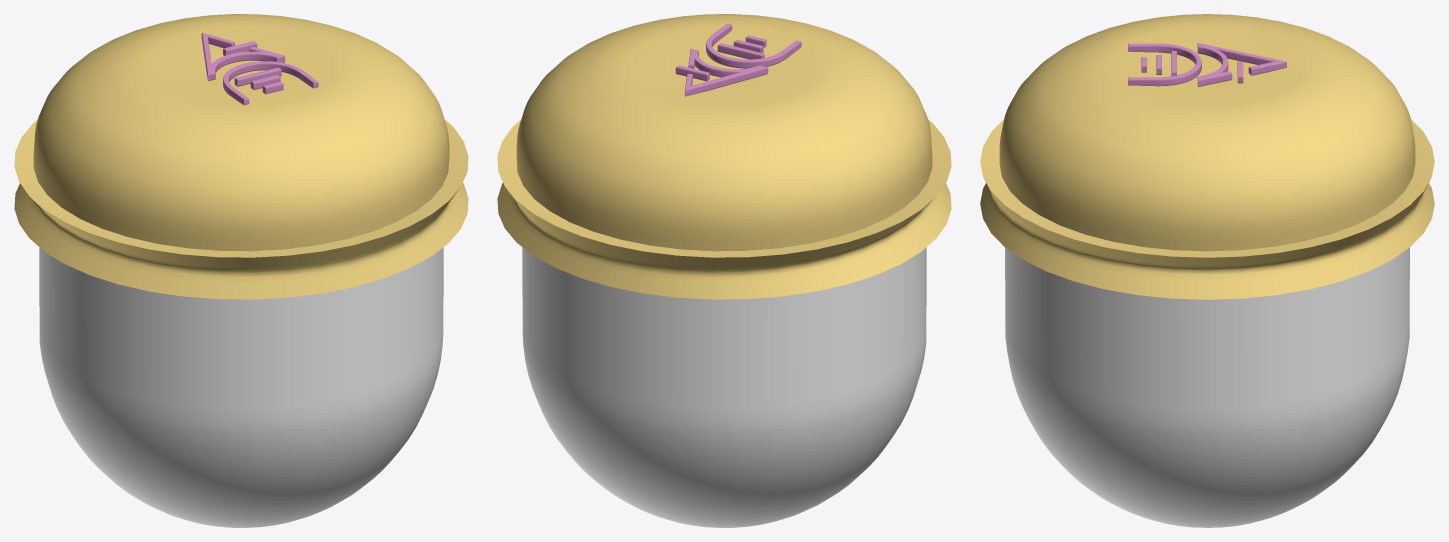
The picture shows the model from 3 angles, left to right: view 1: azimuth 30°, elevation 25°; view 2: azimuth 150°, elevation 25°; view 3: azimuth 270°, elevation 25°; orthographic projection.
Visible parts, largest first — view 1: Capsule_Top, Capsule_Bottom, Capsule_Logo; view 2: Capsule_Top, Capsule_Bottom, Capsule_Logo; view 3: Capsule_Top, Capsule_Bottom, Capsule_Logo.
Boxes of the visible parts, x1,y1,x2,y2 form: Capsule_Top: [14, 14, 468, 299]; Capsule_Bottom: [39, 247, 443, 527]; Capsule_Logo: [201, 32, 318, 105]; Capsule_Top: [497, 14, 951, 299]; Capsule_Bottom: [522, 247, 926, 527]; Capsule_Logo: [675, 23, 801, 96]; Capsule_Top: [980, 14, 1434, 299]; Capsule_Bottom: [1005, 247, 1409, 527]; Capsule_Logo: [1128, 43, 1286, 86].
Bounding box in the file's own units: 0.0221 × 0.024 × 0.0221.
